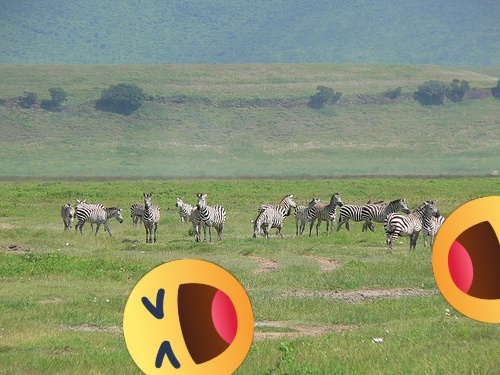haha: (123, 259, 254, 375), (432, 196, 500, 323)
